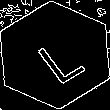L_NW: (25, 25, 85, 85)
